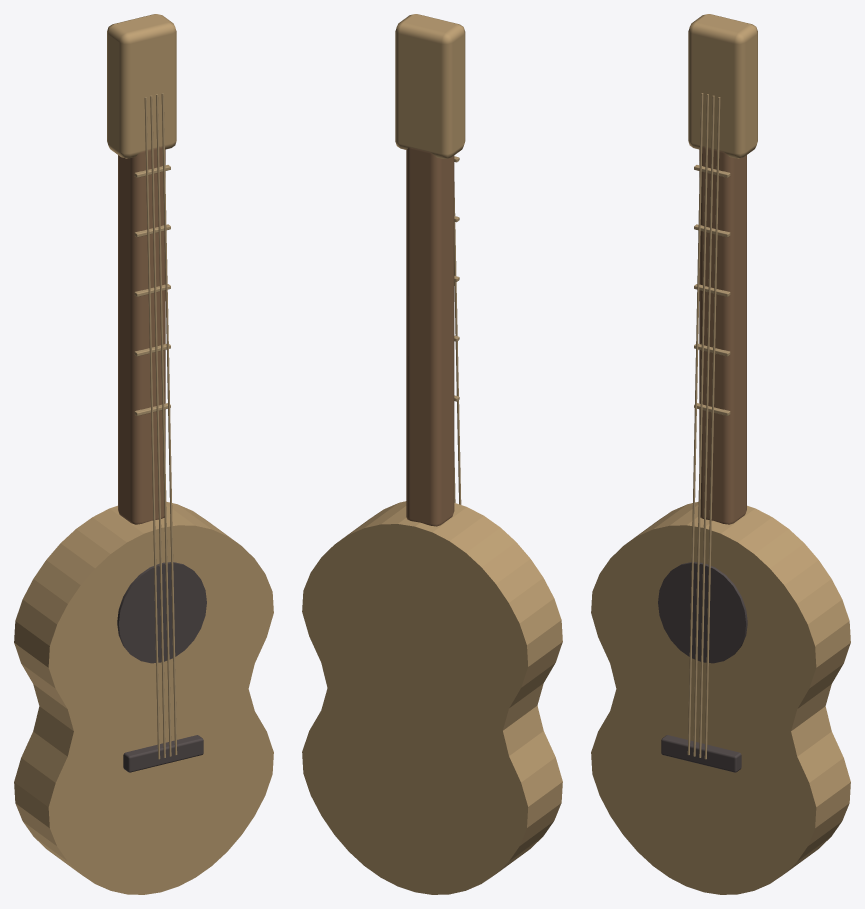
Rendered from guitar.glb.
3 renders of one model, left to right at view 1: azimuth 30°, elevation 25°; view 2: azimuth 150°, elevation 25°; view 3: azimuth 330°, elevation 25°, orthographic.
Visible parts, largest first — view 1: waisted-guitar-body, joined-neck, headstock, sound-hole, string-1, string-2, string-0, string-3, bridge; view 2: waisted-guitar-body, joined-neck, headstock, string-0; view 3: waisted-guitar-body, joined-neck, headstock, sound-hole, string-2, string-1, string-3, string-0, bridge.
Boxes of the visible parts, box(x1,y1,x2,y2) form: waisted-guitar-body: box(14, 501, 273, 894); joined-neck: box(118, 147, 165, 524); headstock: box(107, 14, 176, 158); sound-hole: box(117, 562, 206, 663); string-1: box(150, 95, 165, 757); string-2: box(156, 94, 171, 756); string-0: box(144, 97, 160, 759); string-3: box(161, 93, 177, 754); bridge: box(123, 735, 203, 772); waisted-guitar-body: box(302, 501, 562, 894); joined-neck: box(406, 147, 454, 526); headstock: box(395, 14, 465, 158); string-0: box(454, 182, 461, 504); waisted-guitar-body: box(591, 501, 850, 894); joined-neck: box(699, 147, 746, 524); headstock: box(688, 14, 757, 158); sound-hole: box(658, 562, 747, 663); string-2: box(699, 95, 714, 757); string-1: box(693, 94, 708, 756); string-3: box(704, 97, 720, 759); string-0: box(687, 93, 703, 754); bridge: box(661, 735, 741, 772).
Size of the model in its own units: 0.3575 by 1.3 by 0.114.
